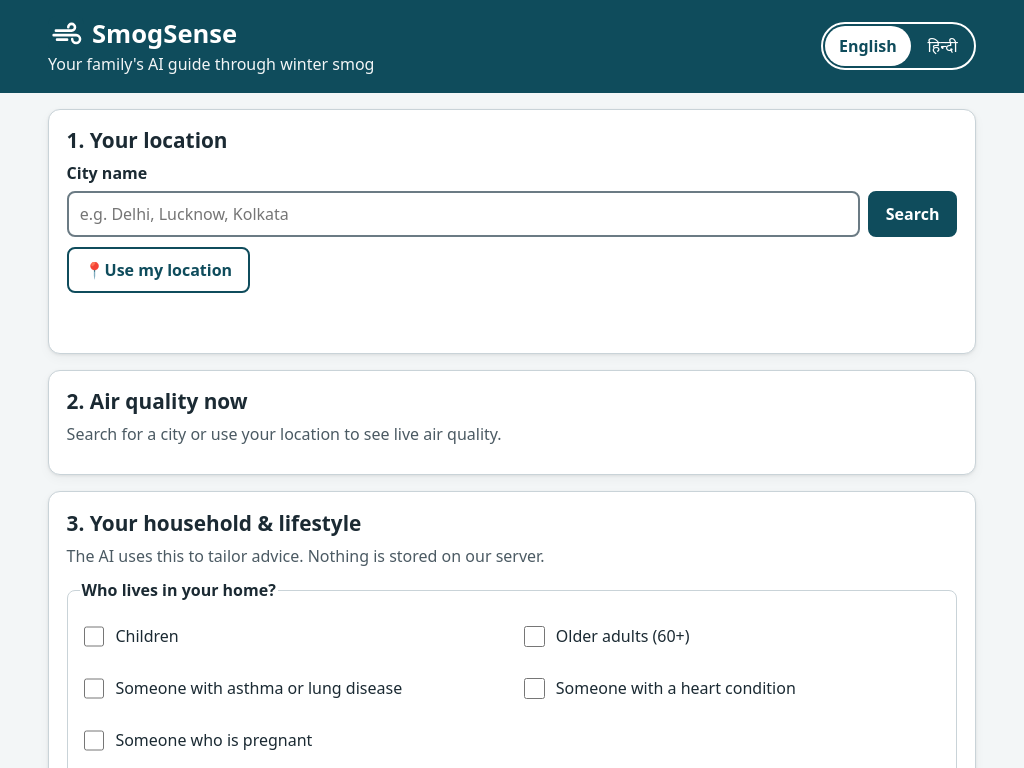
Scenario: App › switches the interface and <html lang> to Hindi
The width and height of the screenshot is (1024, 768).
Click the button "हिन्दी" at (943, 46), box top-left (913, 26), bottom-right (972, 66)
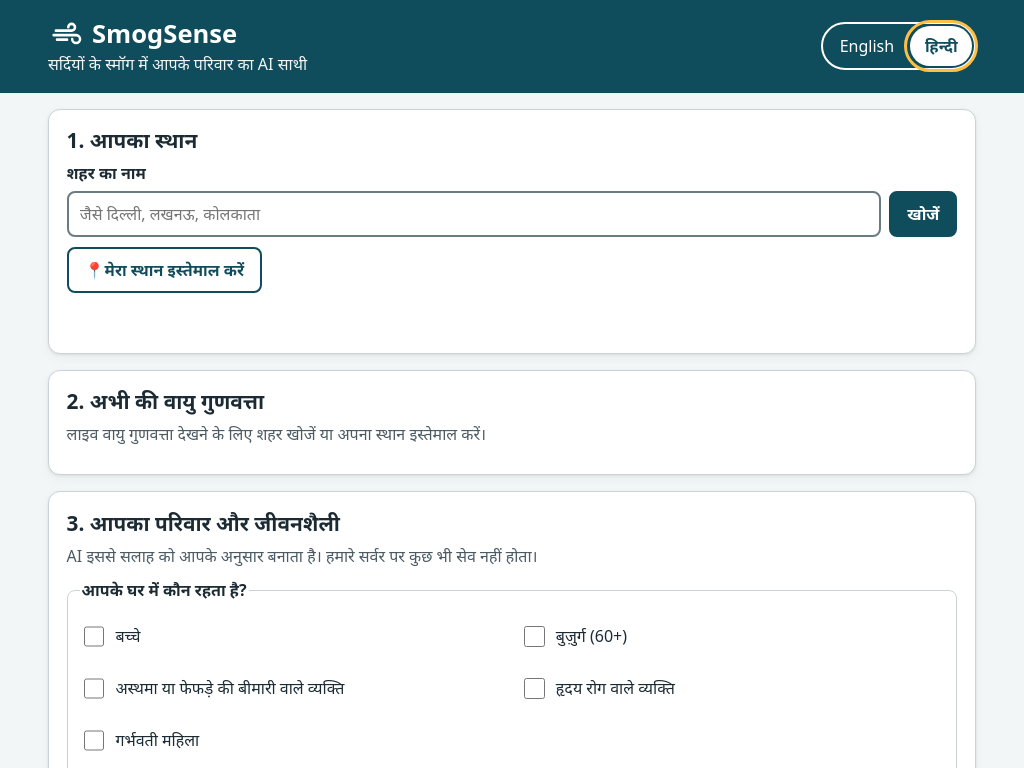
Expected: the field labelled "शहर का नाम" is shown, top-left (67, 191), bottom-right (881, 237)
Expected: the button "हिन्दी" is pressed, top-left (910, 26), bottom-right (972, 66)
